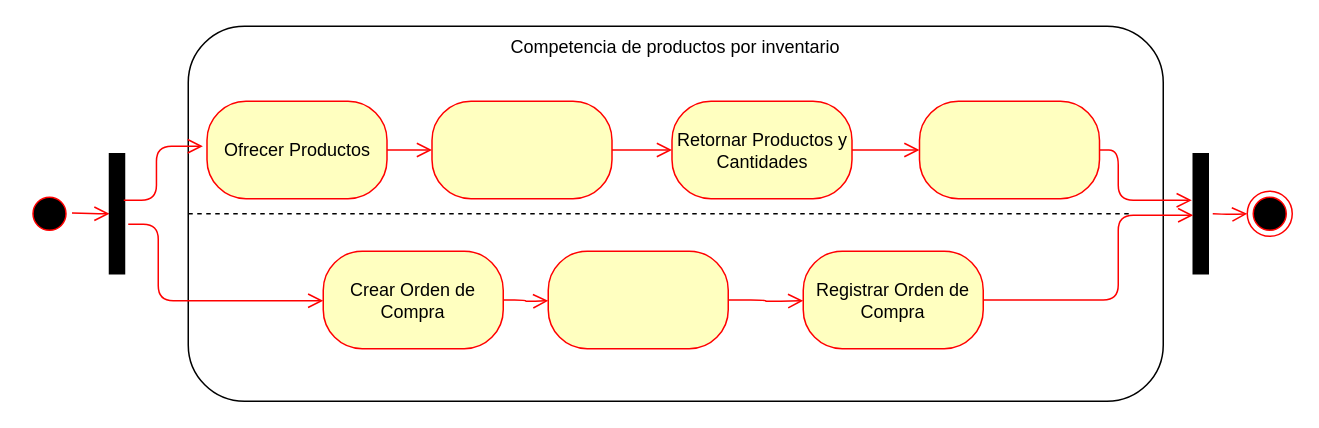
Image size: 1319x428. Some labels were removed from this diagram. The box of each missing label's shape, as (x1, y1, x2, y2) in pixels:
Armar Pedido y retener producto en inventario: (918, 100, 1100, 199)
Buscar Productos Disponibles y Cantidades no retenidas: (430, 100, 612, 199)
Confirmar metodo de pago: (547, 250, 728, 349)
